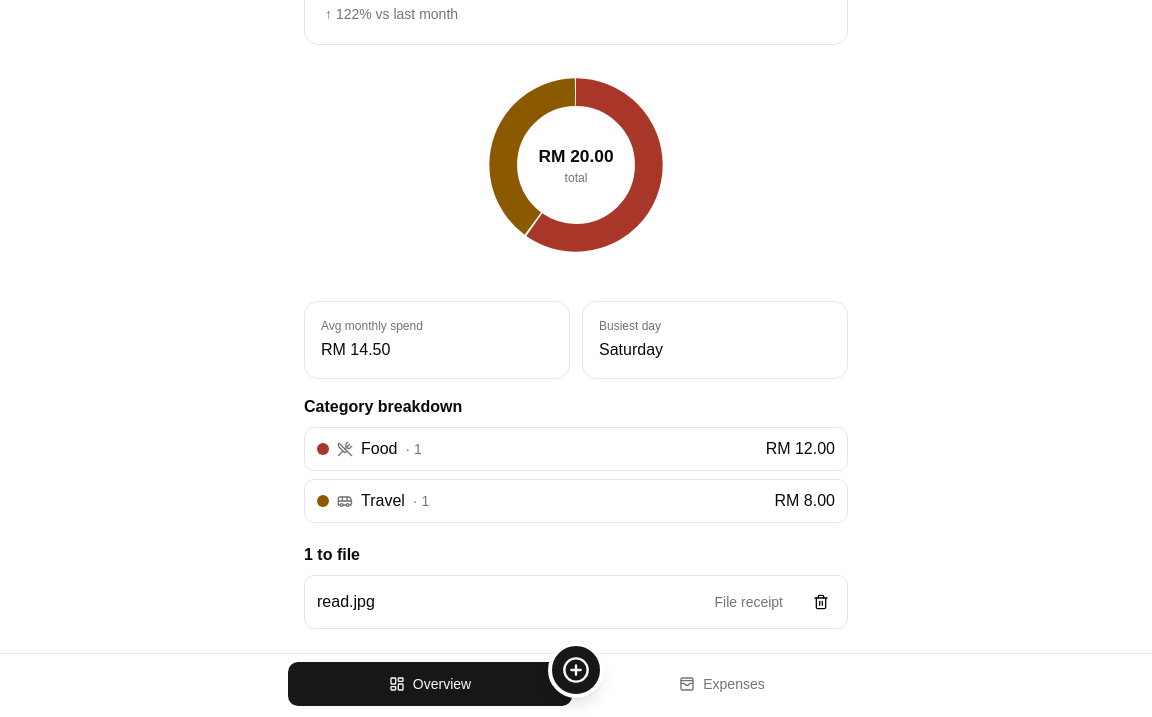
Test case: overview › EXP-42 AC-1 to AC-3: deletes from the to-file list without navigating
The image size is (1152, 717).
(page scrolled)
Expected: the heading "1 to file" is shown, x1=304 y1=546 x2=360 y2=563
What coordinates should you click on to do the following:
click the button named "Delete read.jpg"
I would click on:
 (821, 602)
Its box is x1=799 y1=580 x2=843 y2=624.
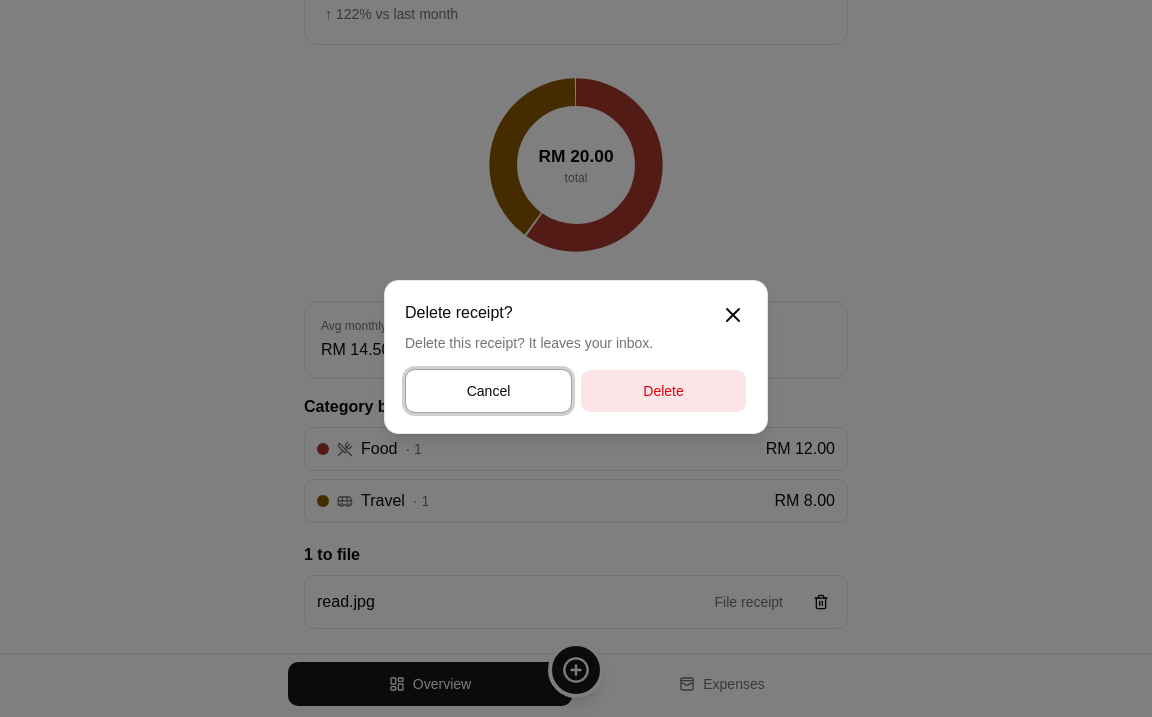
Expected: the heading "Delete receipt?" is shown, x1=405 y1=304 x2=513 y2=321
What coordinates should you click on to do the following:
click the button "Delete"
I would click on:
 (664, 391)
Its box is x1=580 y1=369 x2=747 y2=413.
(page scrolled)
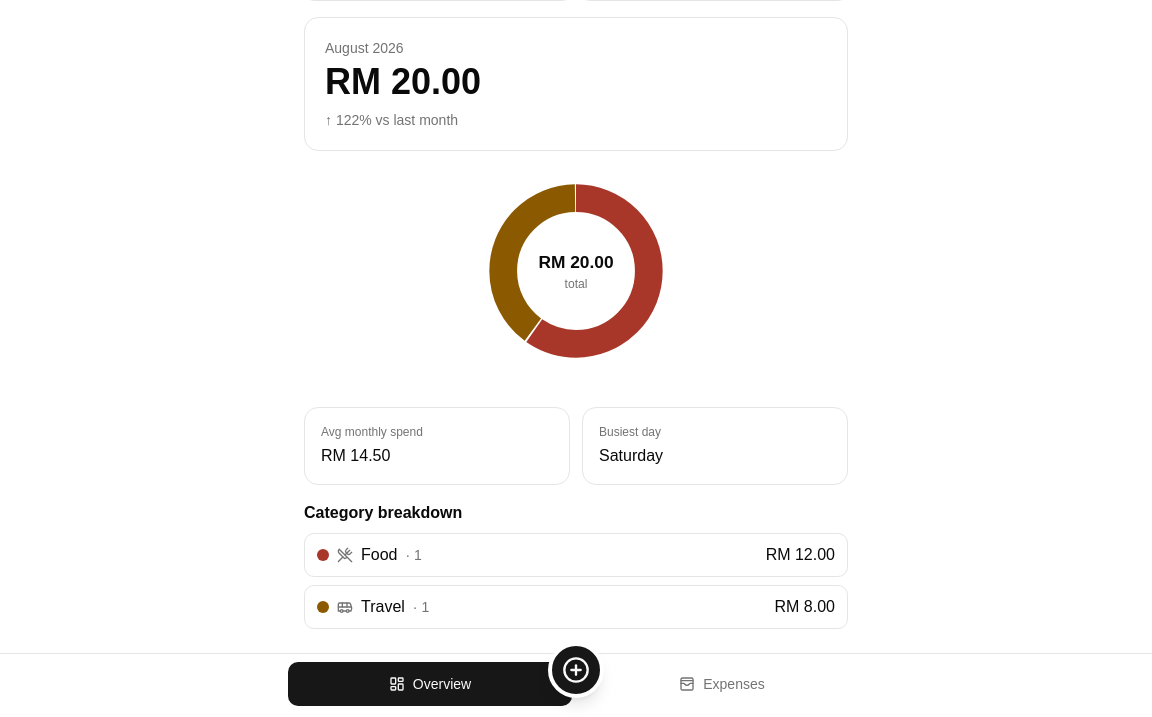
Expected: the heading "1 to file" is gone
Expected: the link "read.jpg" is gone
